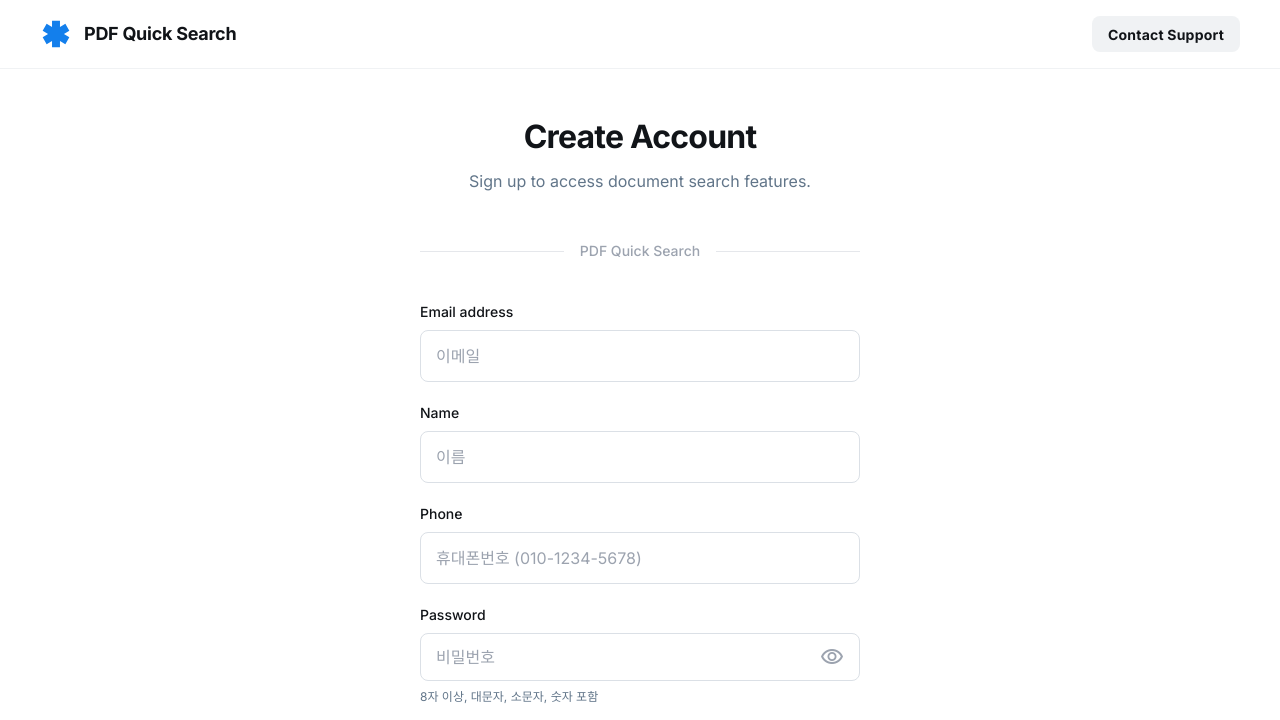
Test case: SignupPage › Form validation › should show error when email format is invalid
Type "test@test" into the field labelled "Email address" at (640, 356), box [420,330,860,382]
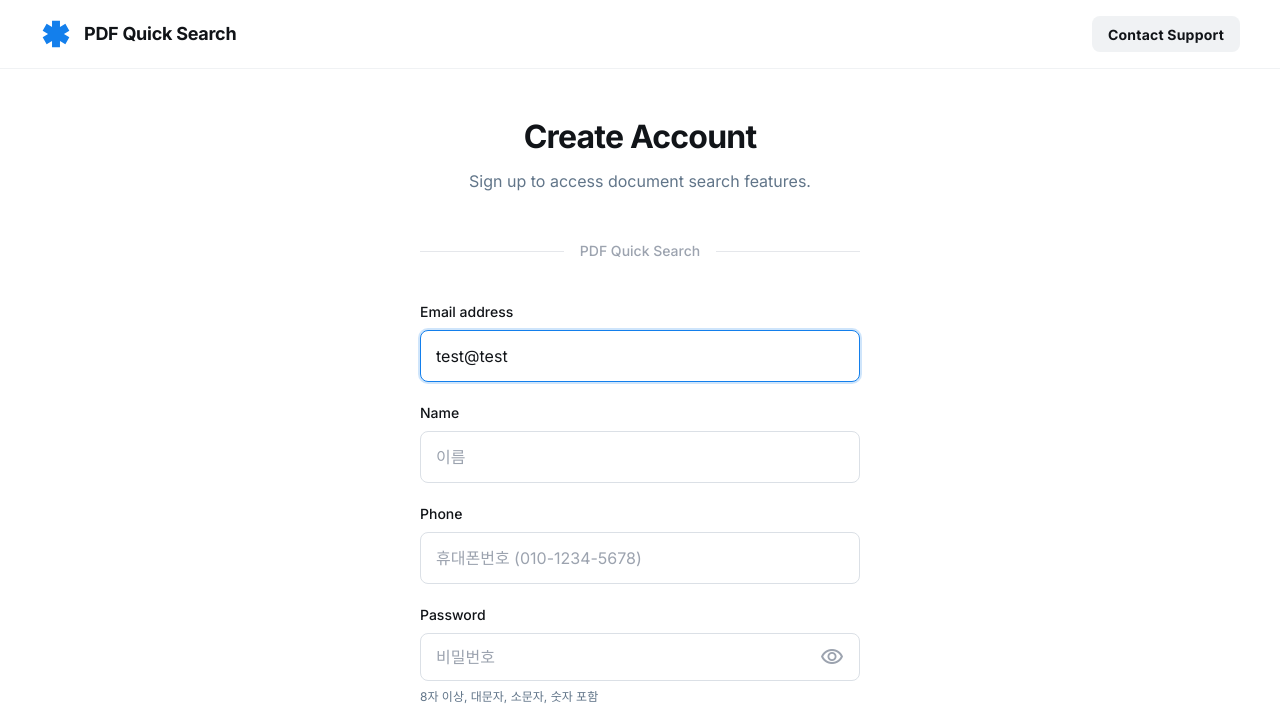
Type "Test User" into the field labelled "Name" at (640, 457), box [420,431,860,483]
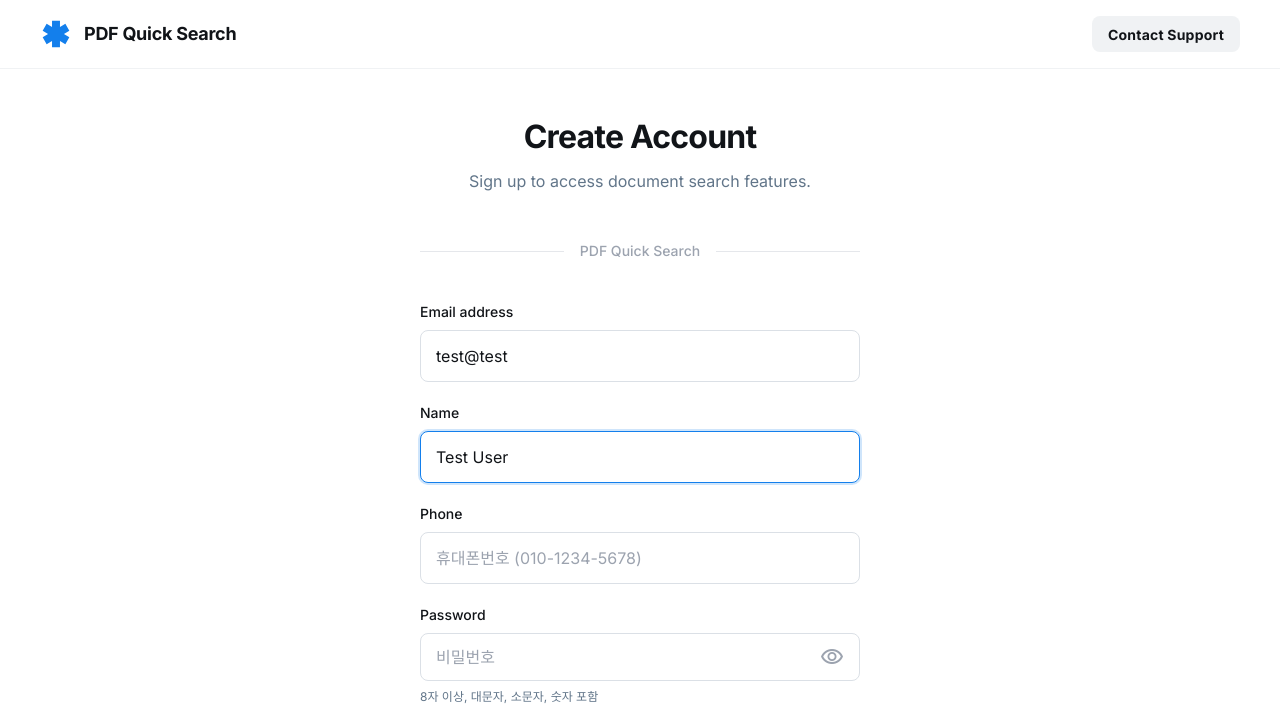
Type "010-1234-5678" into the field labelled "Phone" at (640, 558), box [420,532,860,584]
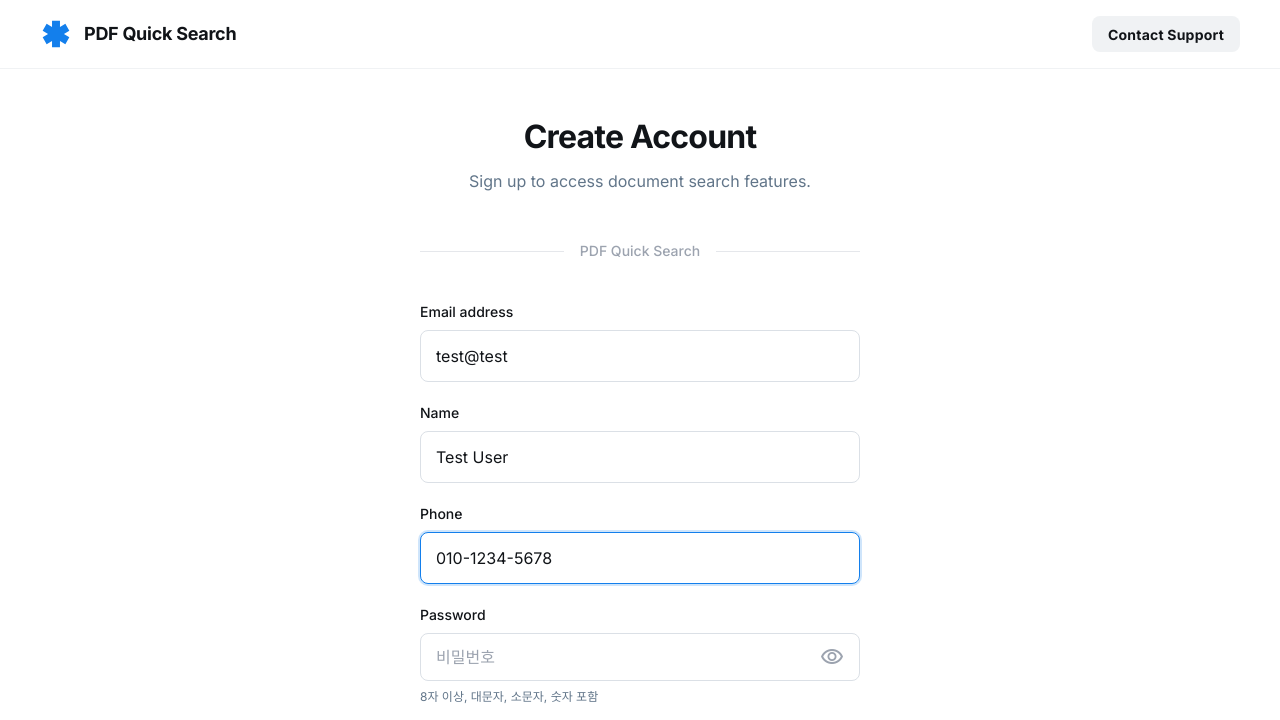
Type "Password123" into the password field labelled "Password" at (640, 657), box [420,633,860,681]
(page scrolled)
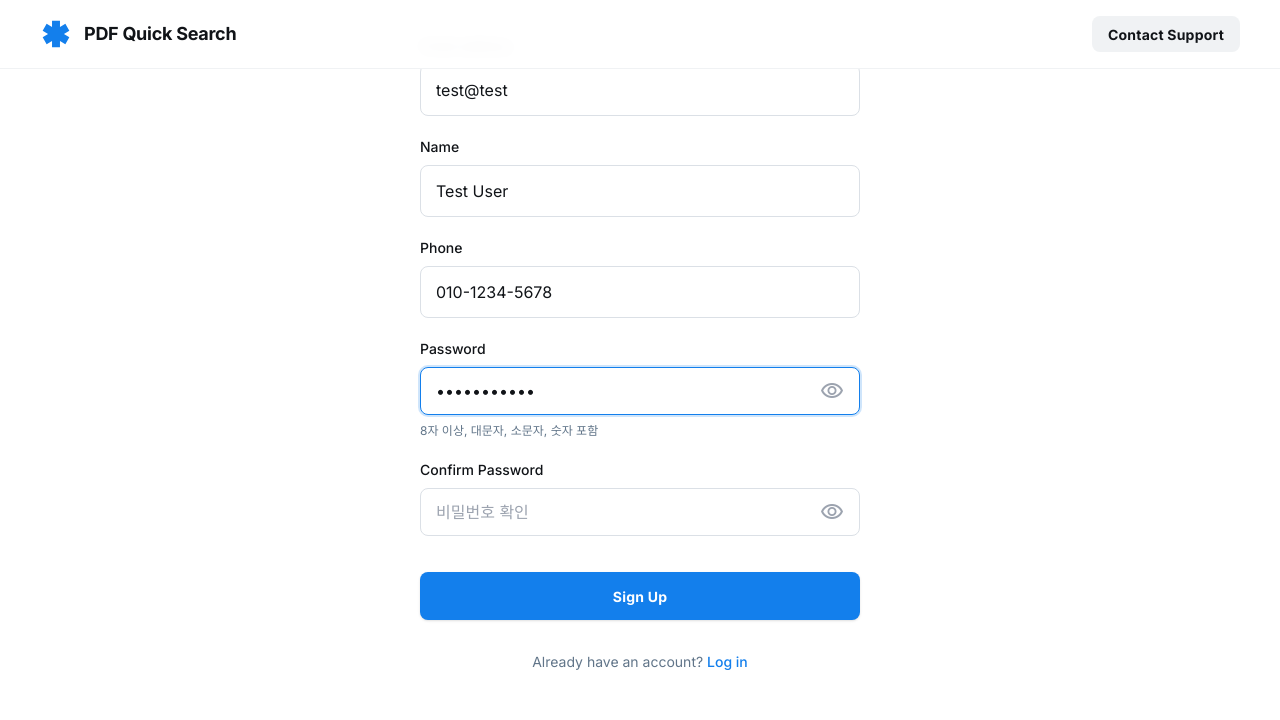
Type "Password123" into the password field labelled "Confirm Password" at (640, 512), box [420,488,860,536]
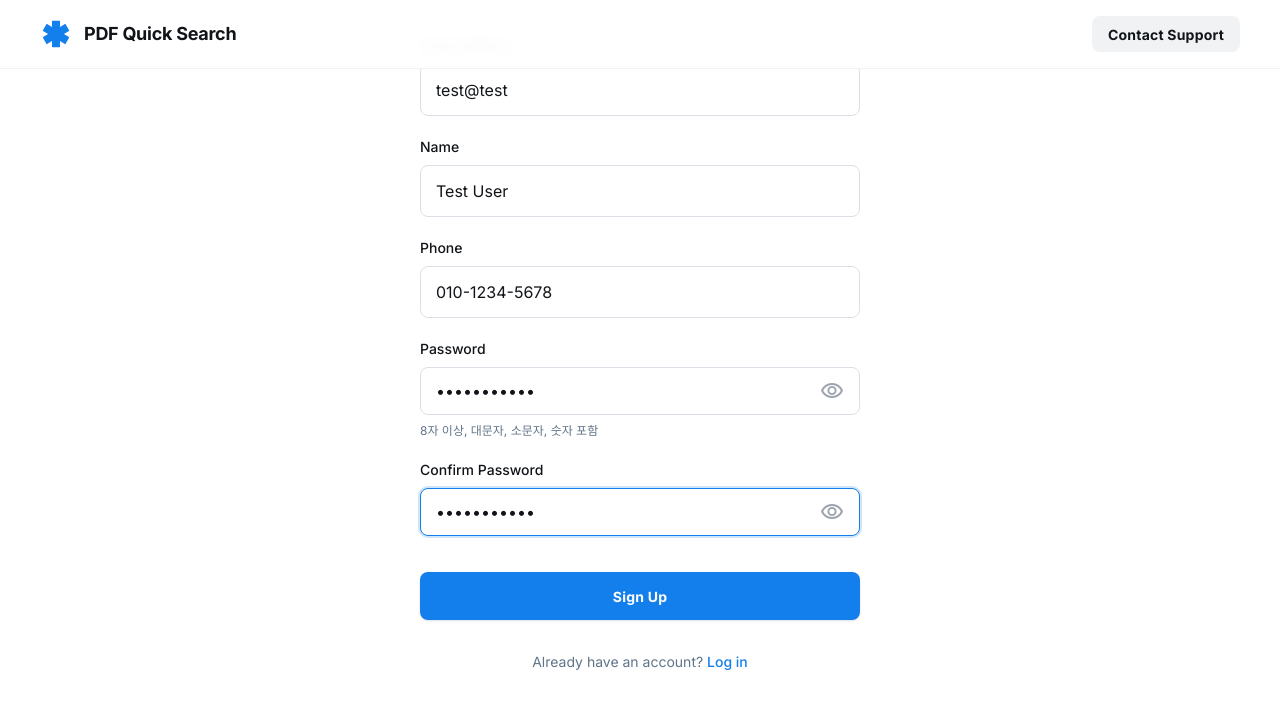
Click the button "Sign Up" at (640, 596), box [420,572,860,620]
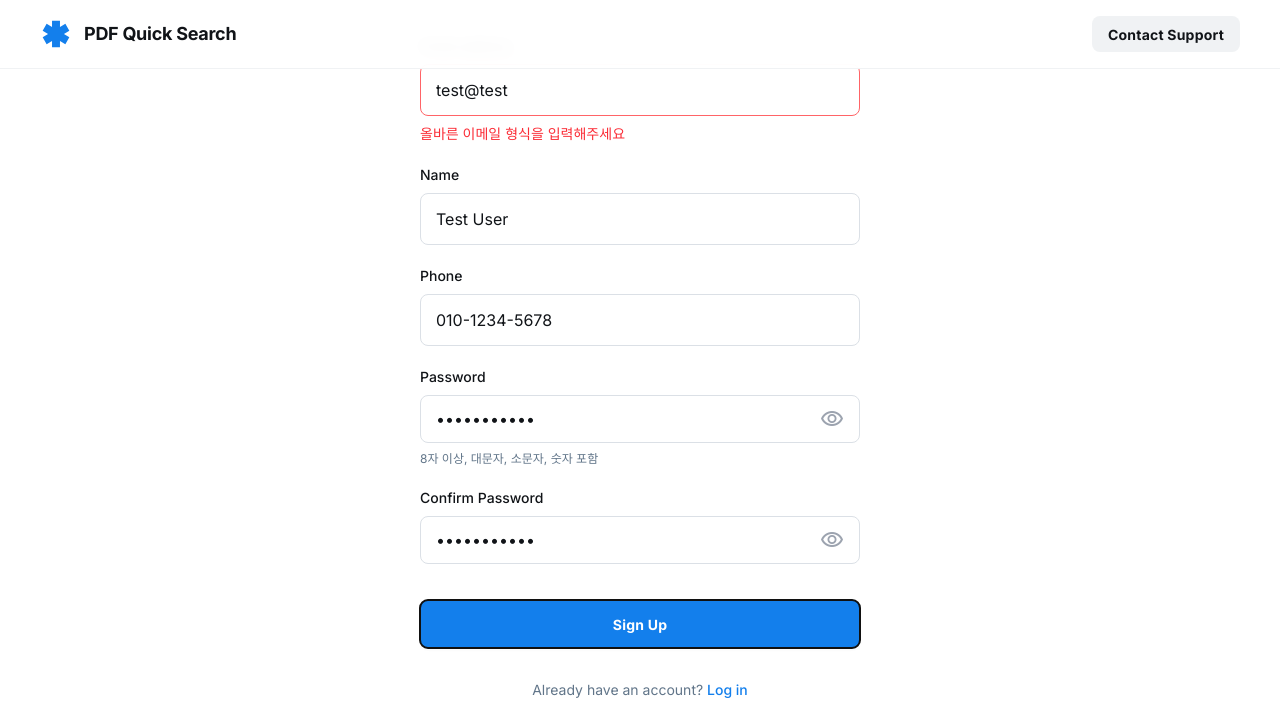
Result: the text "올바른 이메일 형식을 입력해주세요" is shown at [420,125,625,142]
